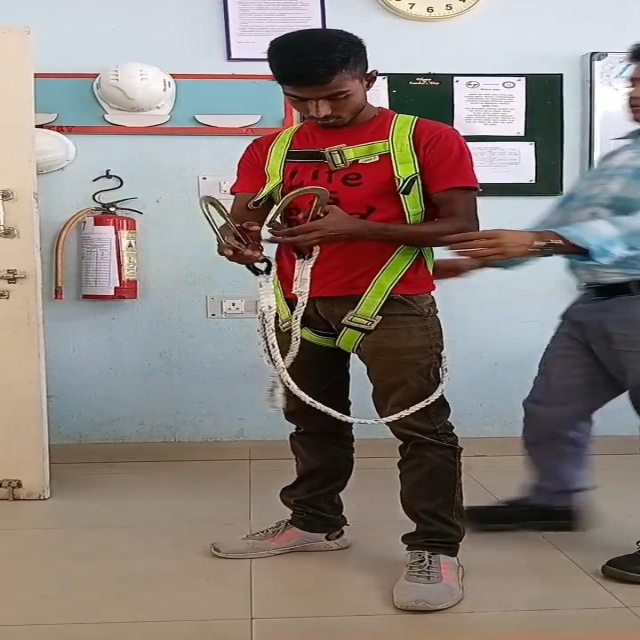Arnes_seguridad: (252, 109, 454, 357)
